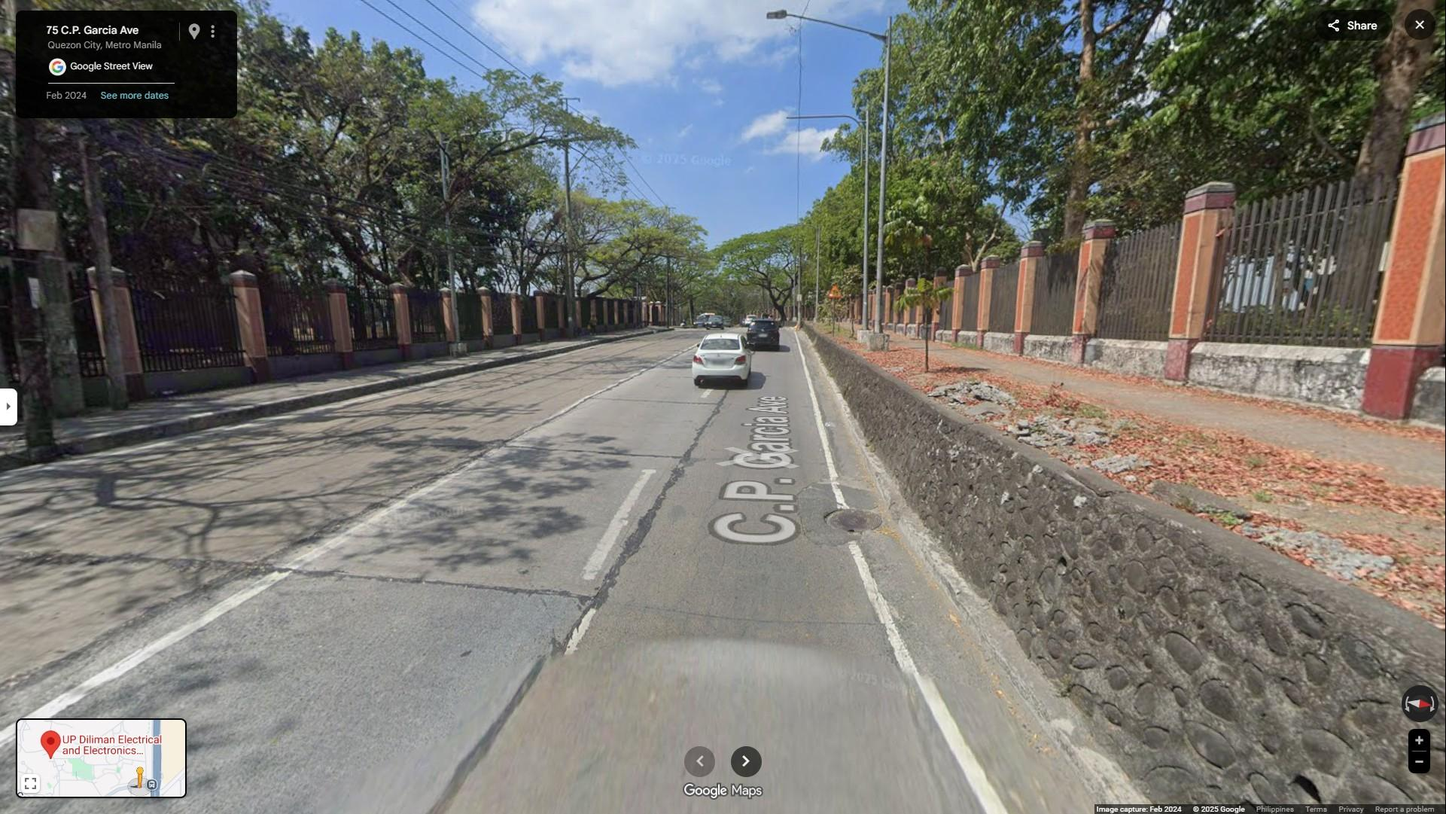pedestrian: (587, 312, 598, 336)
